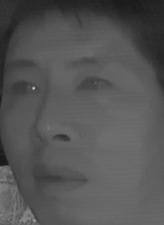eye: (74, 74, 113, 97), (8, 75, 40, 102)
mouth: (28, 157, 91, 197)
